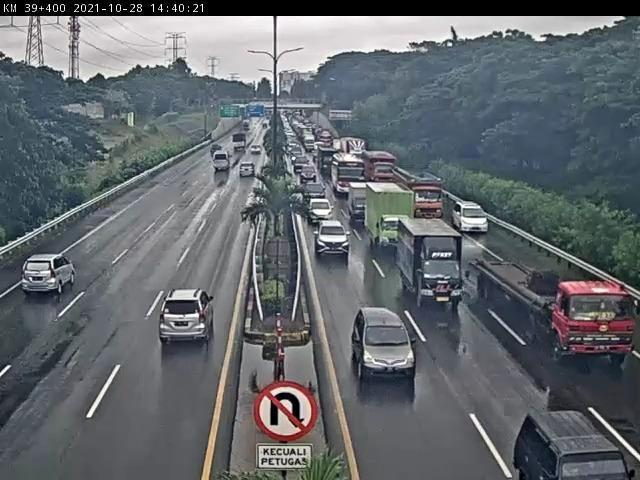bus: (332, 156, 366, 196), (213, 153, 234, 175)
car: (352, 308, 420, 379), (154, 290, 214, 346), (22, 254, 81, 296), (315, 220, 352, 256), (453, 202, 493, 234), (309, 197, 333, 221), (302, 183, 328, 204), (239, 162, 257, 177)
truck: (471, 246, 640, 366), (398, 217, 462, 302), (360, 177, 406, 242), (391, 164, 443, 219), (348, 184, 366, 219)
